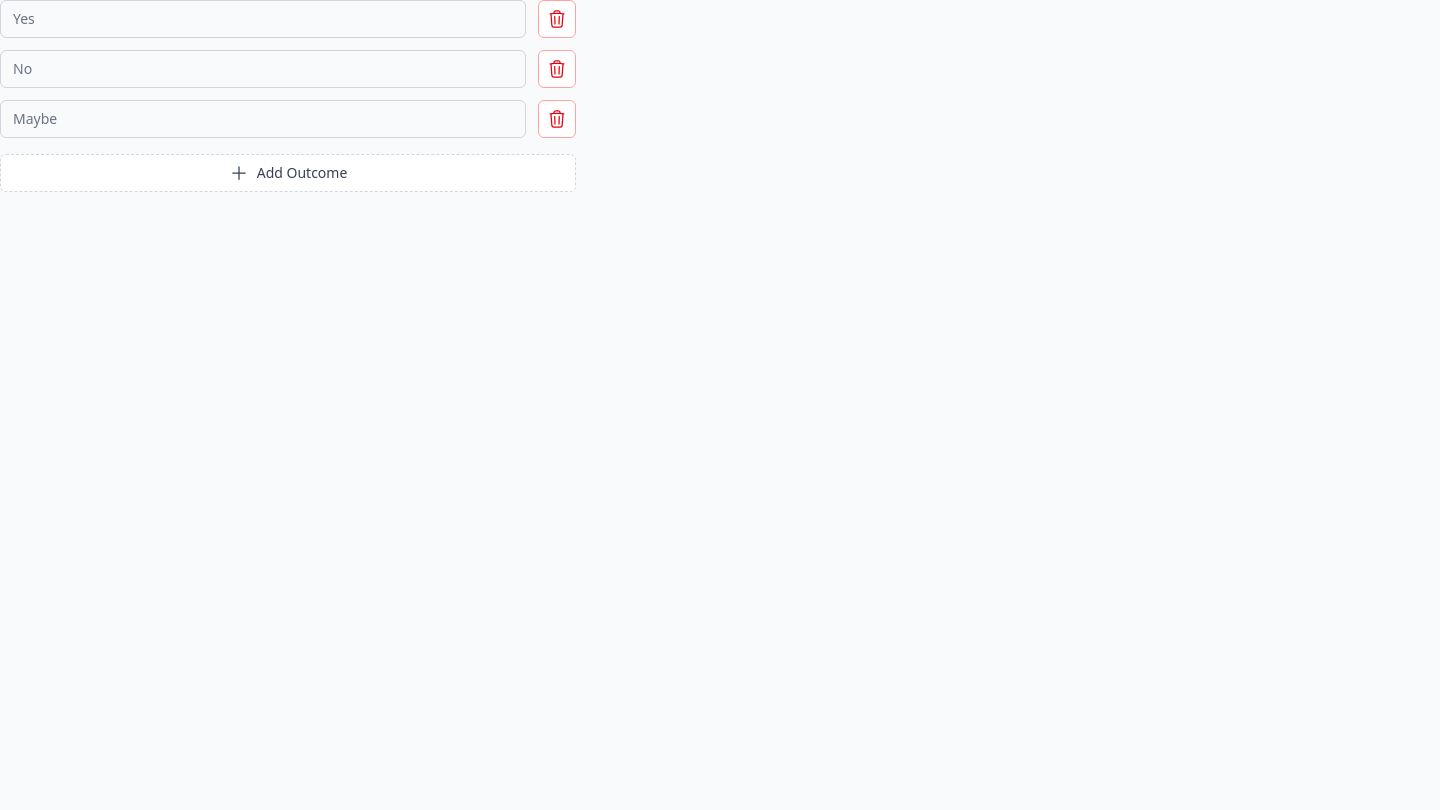
Test: OutcomesList › shows confirmation dialog when deleting outcome with touched predictions
Click the button named "remove". click: (557, 19)
box: [538,0,576,38]
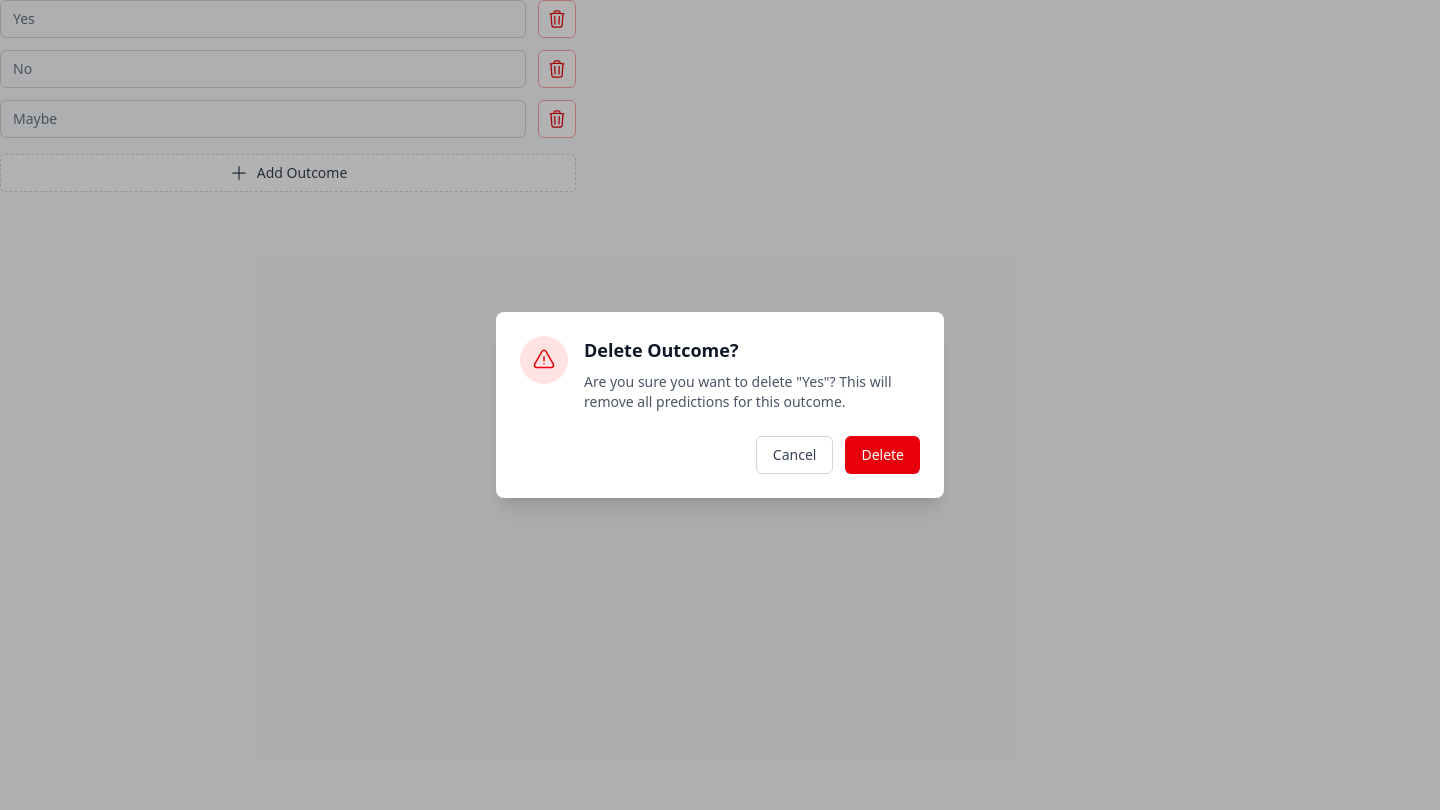
Expected: the heading "Delete Outcome?" is shown, [584,338,738,362]
